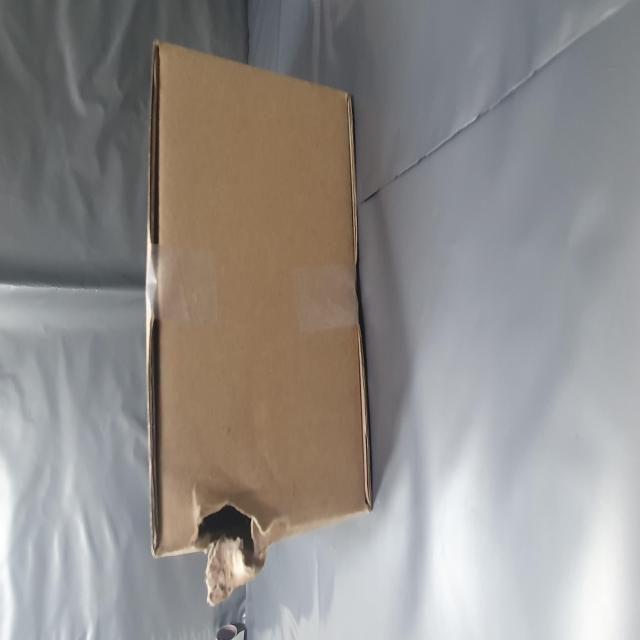damaged: (44, 338, 84, 472)
